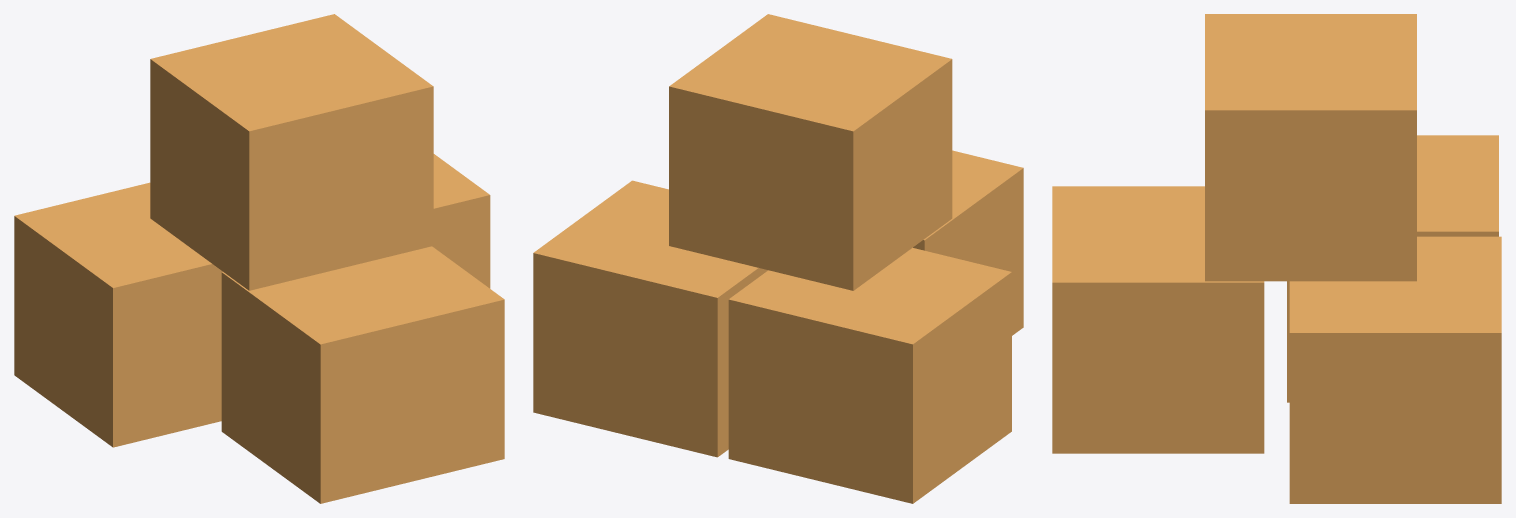
File: zhuangshi_08.FBX
3 views of the same model, side by side, from view 1: azimuth 30°, elevation 25°; view 2: azimuth 150°, elevation 25°; view 3: azimuth 270°, elevation 25° (orthographic). The views are drawn at different scales.
Visible parts, largest first — view 1: zhuangshi_08; view 2: zhuangshi_08; view 3: zhuangshi_08.
Part boxes in pixels (bbox=[...]): zhuangshi_08: bbox=[14, 14, 504, 503]; zhuangshi_08: bbox=[533, 14, 1023, 503]; zhuangshi_08: bbox=[1052, 14, 1501, 503].
Size of the model in its own units: 497 by 403 by 478.
